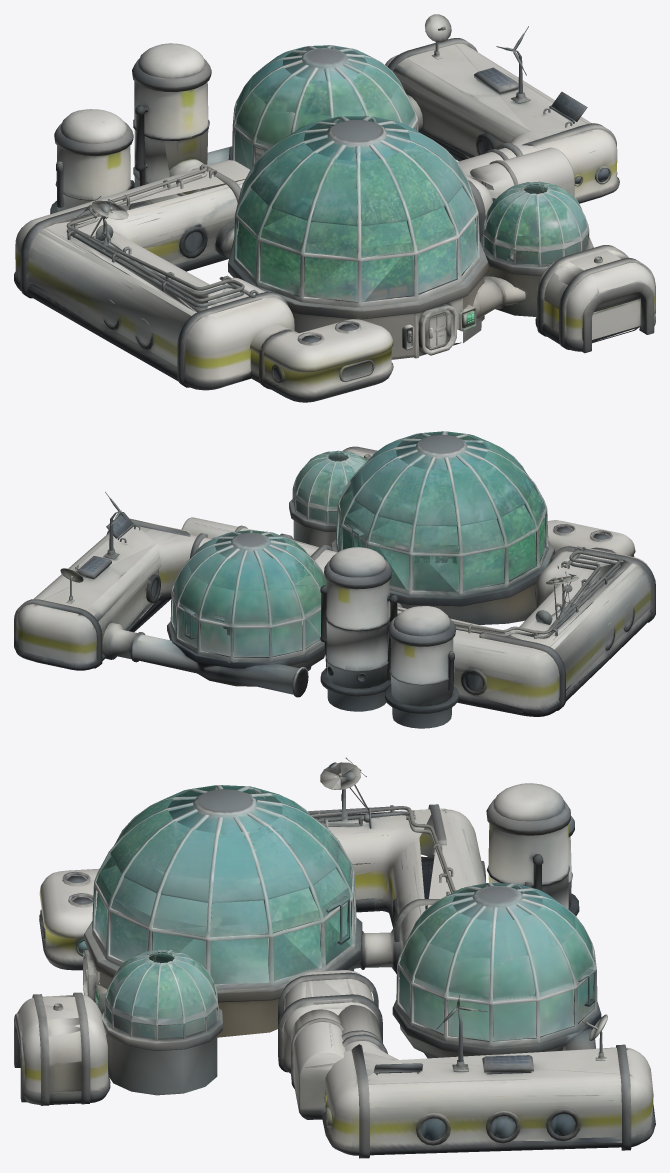
File: aussenposten_muellers_farm_01.glb
3 renders of one model, top to bottom at view 1: azimuth 30°, elevation 25°; view 2: azimuth 150°, elevation 25°; view 3: azimuth 270°, elevation 25°, orthographic. The views are drawn at different scales.
Visible parts, largest first — view 1: muellers_farm_01; view 2: muellers_farm_01; view 3: muellers_farm_01.
Part boxes in pixels (x1,y1,x2,y2): muellers_farm_01: (14, 14, 655, 402); muellers_farm_01: (14, 431, 655, 728); muellers_farm_01: (14, 757, 655, 1158).
Size of the model in its own units: 24 by 7.49 by 22.15.
Materials: 1 (1 with a texture image).
